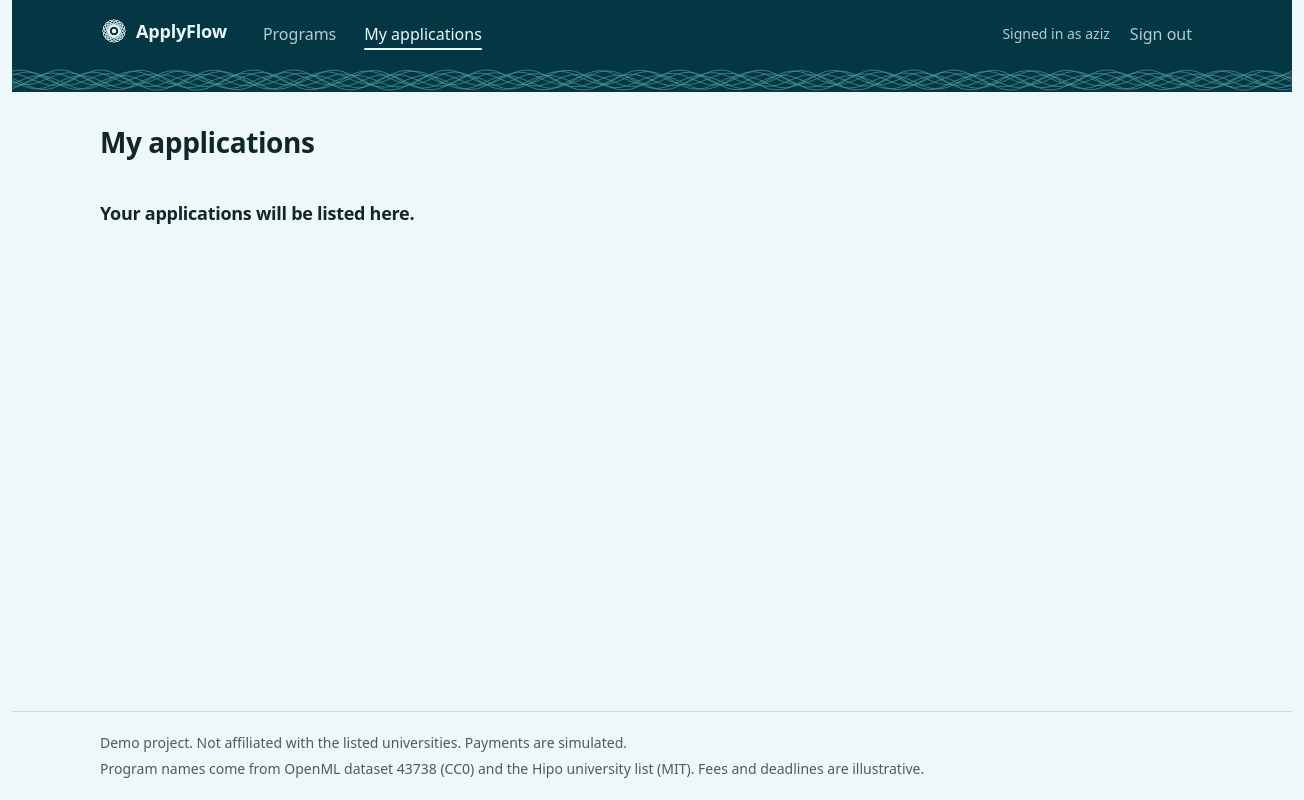
Scenario: sign-in and route guards › signs out and hides the applications link
The image size is (1304, 800).
Click the button "Sign out" at {"x": 1161, "y": 34}, box [1118,12,1204,56]
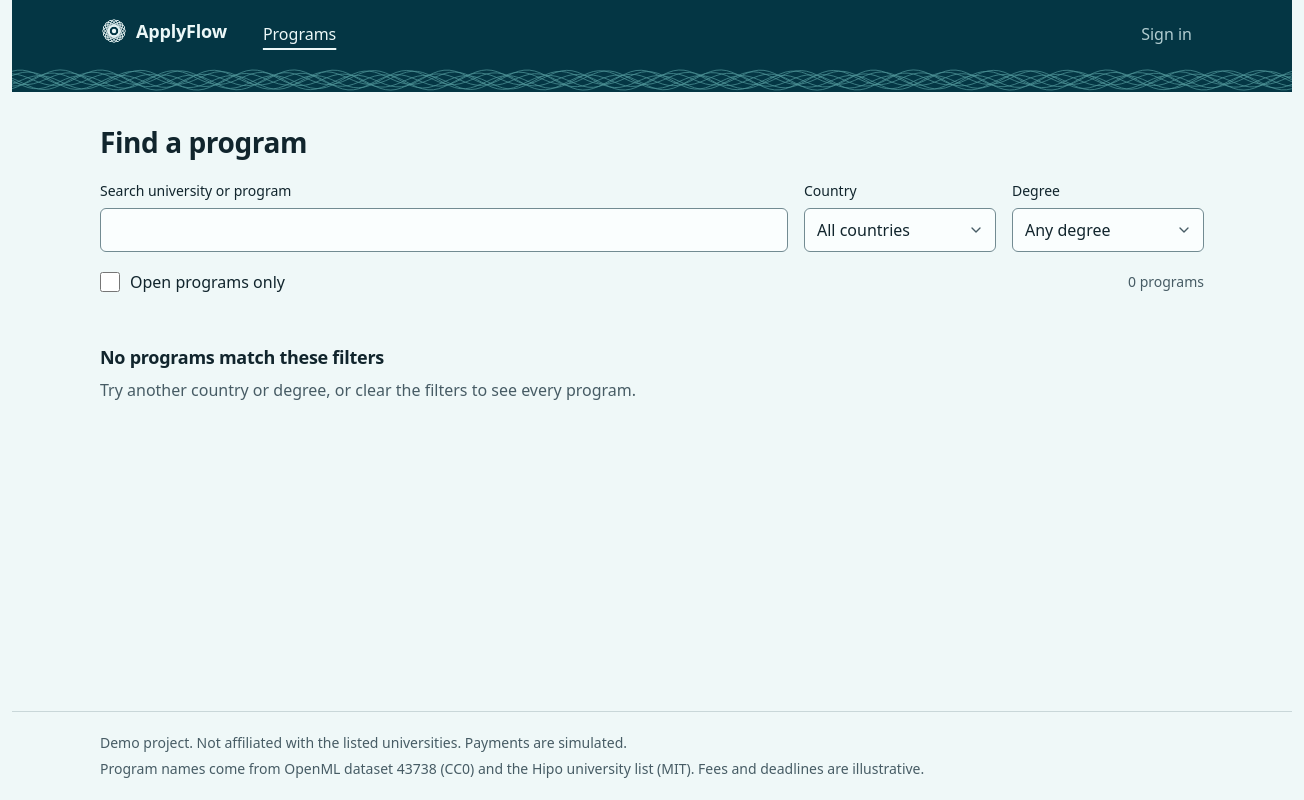
Expected: the heading "Find a program" is shown, [100,123,307,161]
Expected: the link "My applications" is gone
